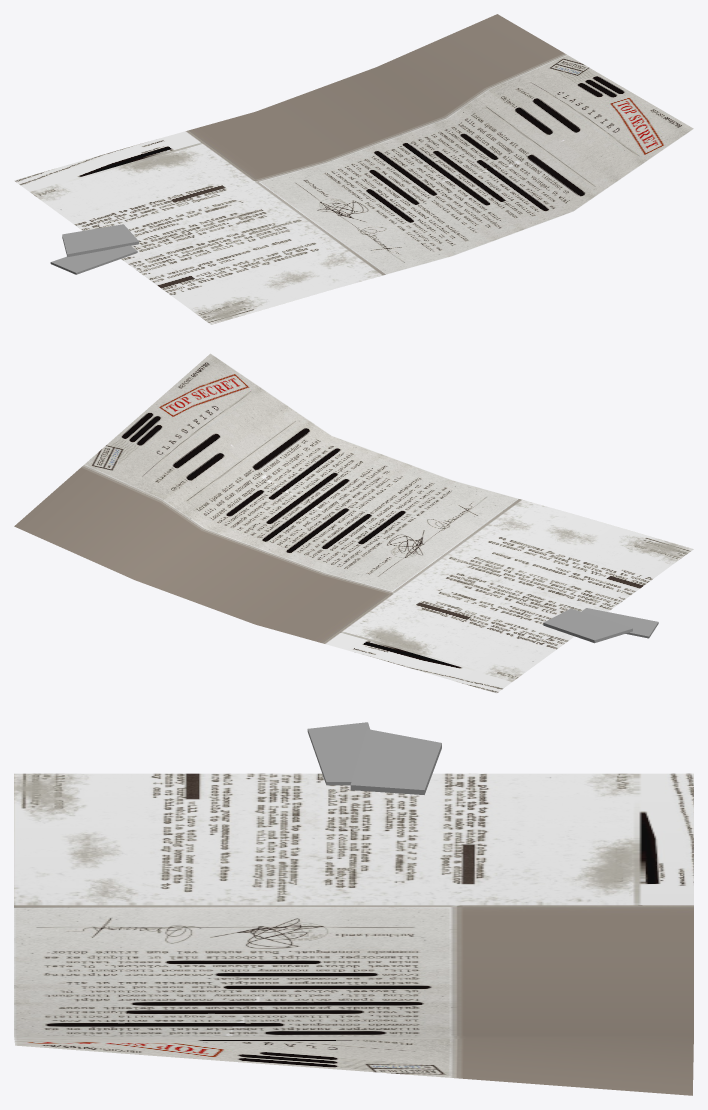
File: SM_Prop_Stick_Paper_02.fbx
3 renders of one model, top to bottom at view 1: azimuth 30°, elevation 25°; view 2: azimuth 150°, elevation 25°; view 3: azimuth 270°, elevation 25°, orthographic. The views are drawn at different scales.
Visible parts, largest first — view 1: SM_Prop_Stick_Paper_02; view 2: SM_Prop_Stick_Paper_02; view 3: SM_Prop_Stick_Paper_02.
Boxes of the visible parts, x1,y1,x2,y2 form: SM_Prop_Stick_Paper_02: [14, 14, 693, 324]; SM_Prop_Stick_Paper_02: [14, 353, 693, 693]; SM_Prop_Stick_Paper_02: [14, 722, 693, 1095].
Bounding box in the file's own units: 61.21 × 8.46 × 38.66.
Materials: 2 (1 with a texture image).
